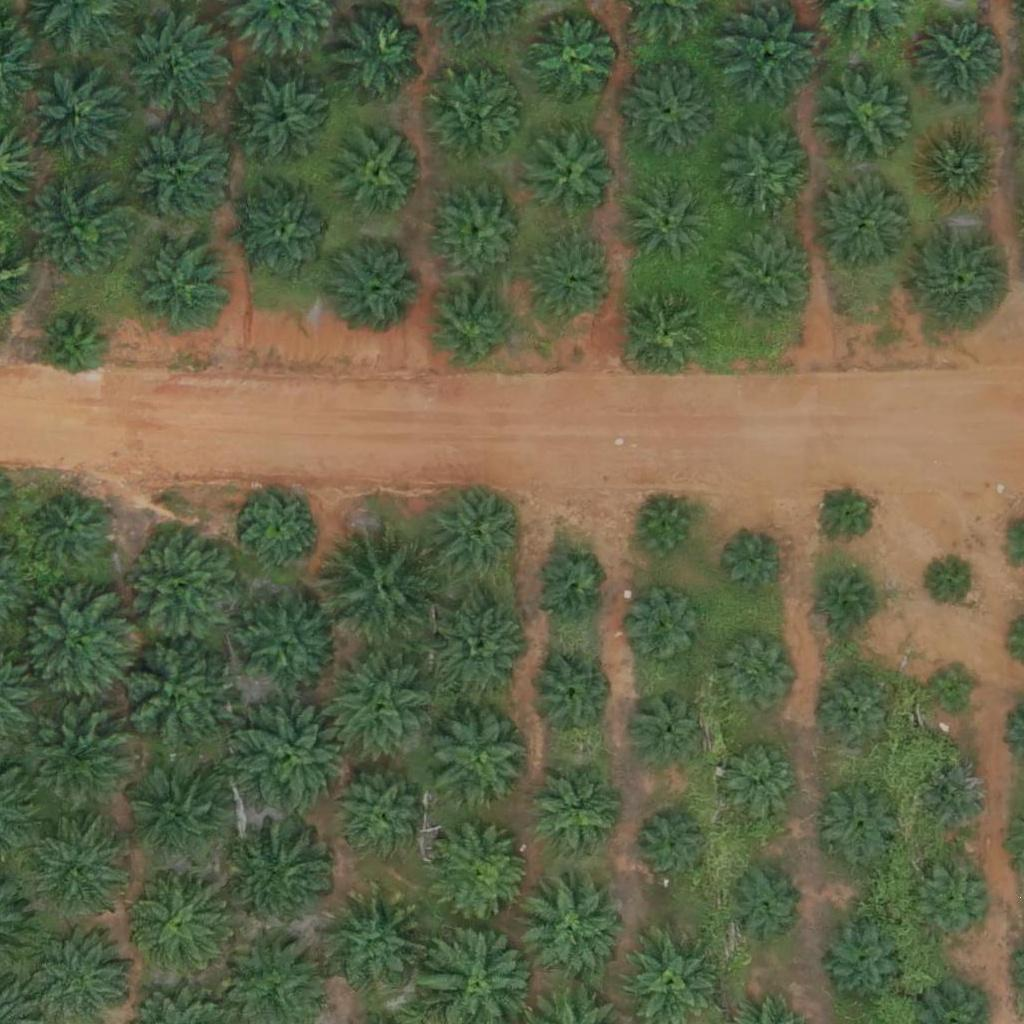Kelapa_Sawit: (122, 521, 247, 647), (110, 632, 235, 758), (230, 696, 355, 822), (321, 522, 446, 648), (317, 645, 442, 771), (20, 589, 132, 702), (21, 701, 133, 814), (718, 8, 818, 109), (618, 63, 718, 164), (32, 180, 132, 281), (126, 125, 226, 226), (131, 235, 231, 336), (715, 221, 815, 322), (817, 69, 917, 170), (815, 173, 915, 274), (914, 227, 1014, 328), (130, 768, 230, 869), (131, 869, 231, 970), (238, 824, 338, 925), (329, 892, 429, 993), (326, 3, 426, 103), (126, 17, 226, 117), (237, 184, 337, 284), (329, 235, 429, 335), (431, 181, 531, 281), (236, 593, 336, 693), (426, 485, 526, 585), (430, 601, 530, 701), (430, 708, 530, 808), (432, 825, 532, 925), (523, 881, 623, 981), (817, 779, 905, 867), (915, 10, 1003, 98), (528, 18, 616, 106), (234, 76, 322, 164), (528, 131, 616, 219), (530, 237, 618, 325), (626, 177, 714, 265), (623, 287, 711, 375), (915, 121, 1003, 209), (33, 824, 121, 912), (532, 771, 620, 859), (821, 919, 909, 1007), (527, 650, 614, 738), (434, 77, 521, 165), (35, 78, 122, 166), (337, 127, 424, 215), (431, 284, 518, 372), (730, 124, 817, 212), (338, 775, 425, 863), (721, 741, 796, 817), (631, 689, 706, 765), (636, 808, 711, 884), (725, 864, 800, 940), (243, 490, 318, 566), (531, 550, 606, 626), (629, 592, 704, 667), (722, 634, 797, 709), (820, 678, 895, 753), (912, 864, 987, 939), (34, 493, 109, 568), (919, 763, 994, 838), (41, 317, 104, 380), (814, 482, 877, 545), (815, 571, 878, 634), (634, 498, 696, 561), (724, 531, 786, 594), (929, 557, 979, 608), (928, 663, 978, 714)
